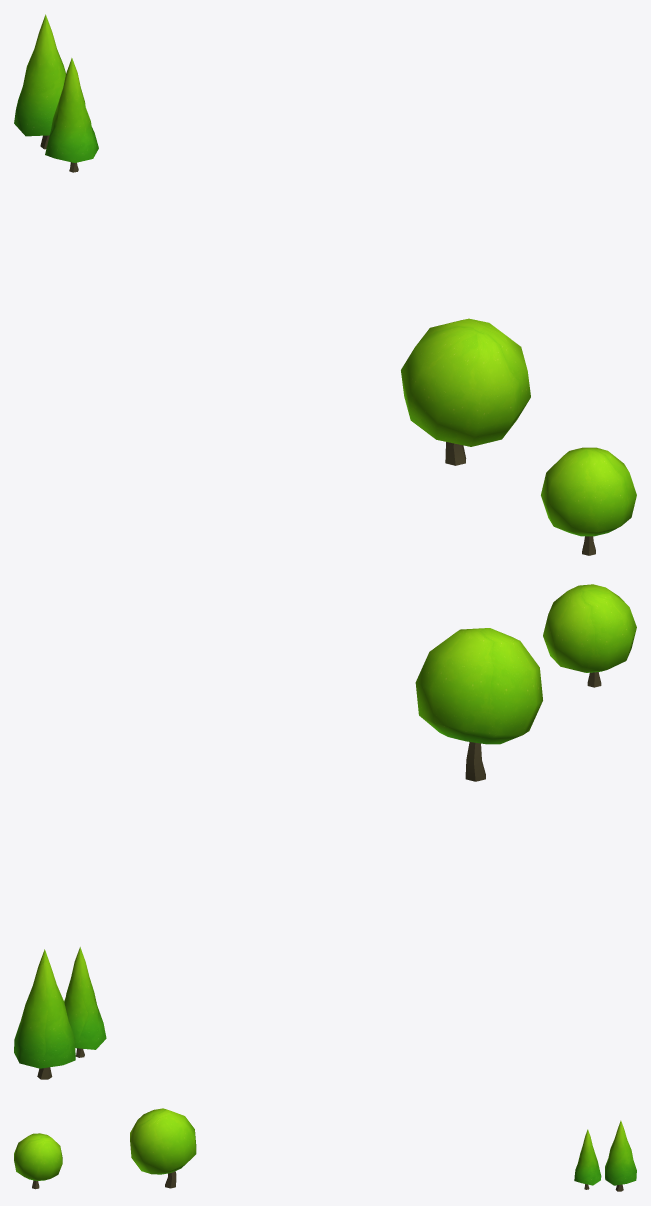
Rendered from Trees.fbx.
The picture shows the model from 3 angles, top to bottom: view 1: azimuth 30°, elevation 25°; view 2: azimuth 150°, elevation 25°; view 3: azimuth 270°, elevation 25°; orthographic projection. The views are drawn at different scales.
Parts seen in each view (by area): view 1: Tree_1, Tree_2, Tree_4, Tree_3; view 2: Tree_1, Tree_2, Tree_4, Tree_3; view 3: Tree_1, Tree_2, Tree_4, Tree_3.
Part boxes in pixels (left/top/right/bottom): Tree_1: left=401, top=318, right=530, bottom=465; Tree_2: left=541, top=447, right=636, bottom=555; Tree_4: left=14, top=14, right=65, bottom=149; Tree_3: left=45, top=58, right=98, bottom=172; Tree_1: left=415, top=628, right=542, bottom=781; Tree_2: left=543, top=584, right=636, bottom=687; Tree_4: left=14, top=949, right=75, bottom=1079; Tree_3: left=64, top=947, right=106, bottom=1057; Tree_1: left=130, top=1108, right=196, bottom=1188; Tree_2: left=14, top=1133, right=62, bottom=1189; Tree_4: left=605, top=1120, right=636, bottom=1191; Tree_3: left=574, top=1129, right=601, bottom=1189.
Size of the model in its own units: 5.41 by 6.29 by 47.83.
